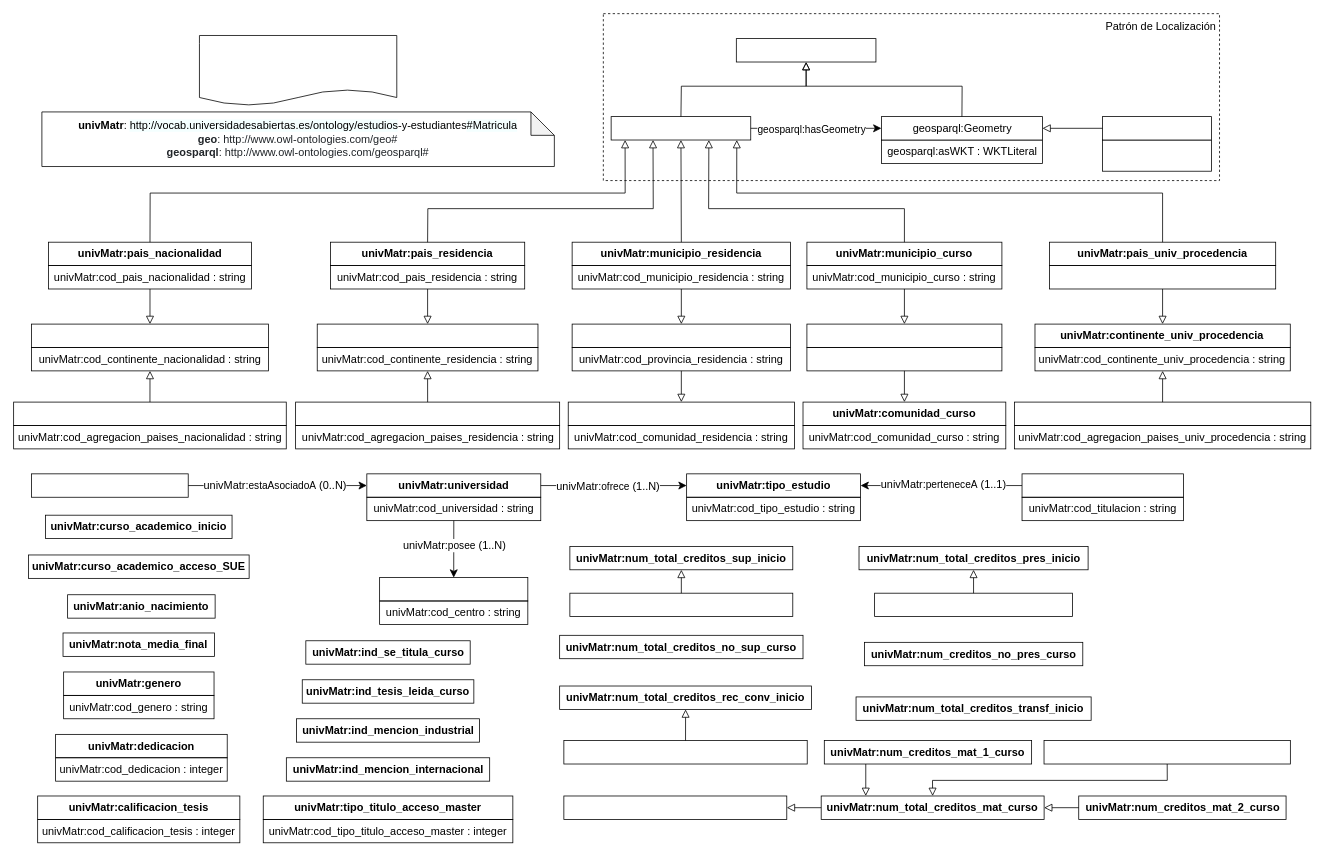
Some shapes in this 1324 by 856 pixel diagram are drawn without their labels. Here are the shapes that lost their labels. From the top down, the box of each, then its label:
(736, 38, 876, 62): geosparql:SpatialObject
(199, 35, 397, 106): dc:creator: Víctor Morcuende owl:versionInfo: 0.0.1 dc:title: Template Ontology
(610, 116, 751, 140): geosparql:Feature
(1102, 116, 1212, 140): geosparql:Point
(1102, 139, 1212, 171): geo:lat : decimal geo:long : decimal
(1049, 265, 1276, 289): univMatr:cod_pais_univ_procedencia : string
(31, 323, 269, 347): univMatr :continente_nacionalidad
(316, 323, 538, 347): univMatr :continente_ residencia
(571, 323, 791, 347): univMatr :provincia_ residencia
(806, 323, 1002, 347): univMatr :provincia_curso
(806, 347, 1002, 371): univMatr :cod_provincia_curso : string
(13, 401, 286, 425): univMatr :agregacion_paises_nacionalidad
(295, 401, 560, 425): univMatr :agregacion_paises_ residencia
(567, 401, 794, 425): univMatr :comunidad_ residencia
(1014, 401, 1311, 425): univMatr :agregacion_paises_univ_procedencia
(31, 473, 188, 497): univMatr :curso_academico
(1021, 473, 1183, 497): univMatr :titulacion
(379, 577, 528, 601): univMatr :centro
(569, 592, 793, 617): univMatr:num_total_creditos_sup_curso
(874, 592, 1072, 617): univMatr:num_creditos_pres_curso
(563, 740, 807, 764): univMatr:num_total_creditos_rec_conv_curso
(1043, 740, 1290, 764): univMatr:num_creditos_mat_3_o_mas_curso
(563, 795, 787, 819): univMatr:num_total_creditos_mat_inicio
